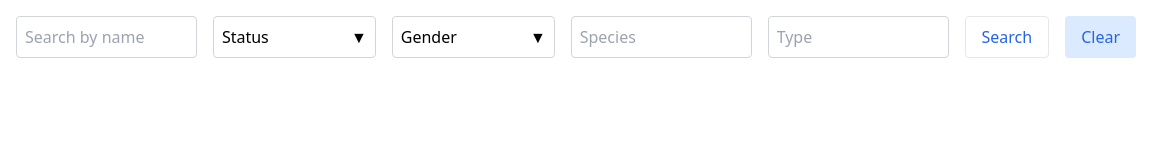
Test: FilterBar › should clear filters when Clear button is clicked
Step 1. Type "Rick" into the field with placeholder "Search by name" → (106, 37), box [16,16,197,58]
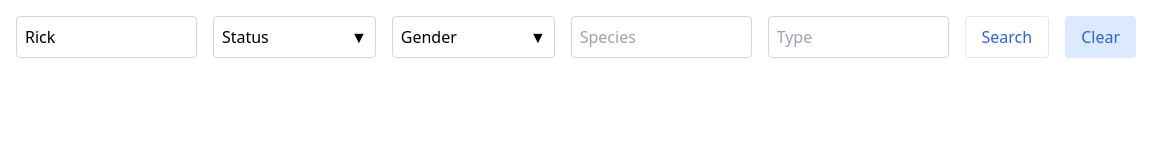
Step 2. Type "Human" into the field with placeholder "Species" → (661, 37), box [571,16,752,58]
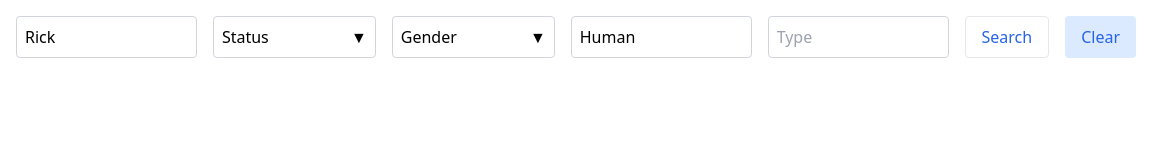
Step 3. Type "Unknown" into the field with placeholder "Type" → (858, 37), box [768,16,948,58]
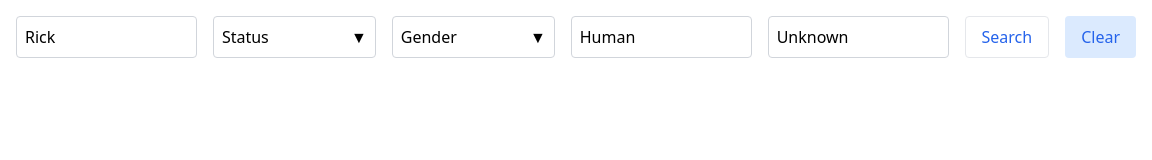
Step 4. Click the button "Clear" → click(1101, 37), box [1065,16,1136,58]
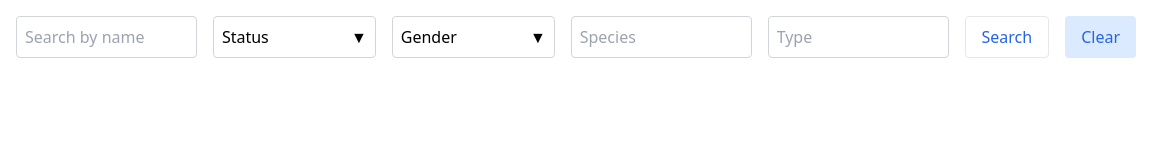
Expected: the field with placeholder "Search by name" is empty, [16,16,197,58]
Expected: the field with placeholder "Species" is empty, [571,16,752,58]
Expected: the field with placeholder "Type" is empty, [768,16,948,58]
